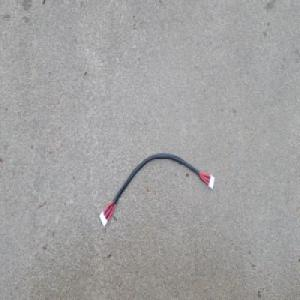Wire: (98, 151, 216, 229)
